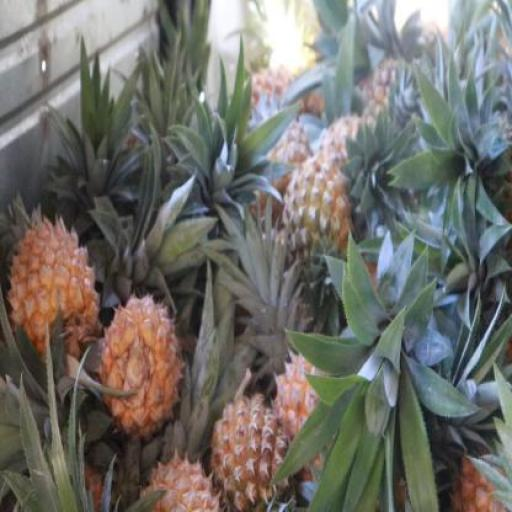Pineapple - v8 v1: (7, 218, 98, 365), (100, 293, 178, 427), (207, 388, 285, 512)
